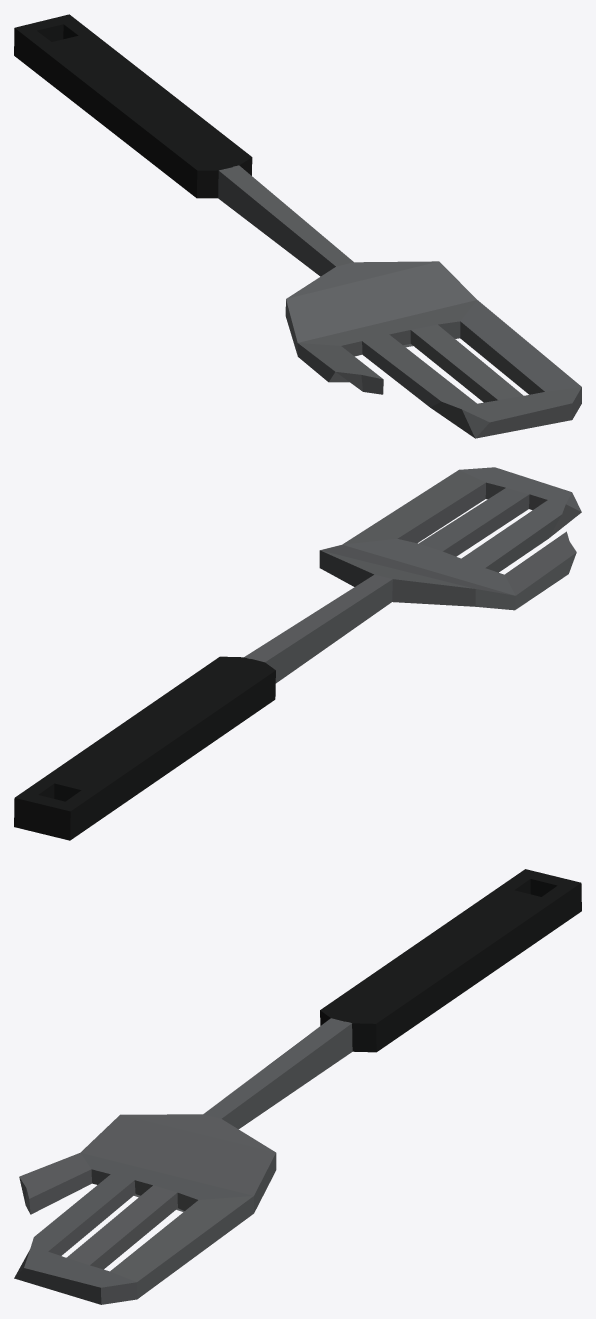
The model's file is kitchen_spatula_damaged._low_poly_model._no_ai..glb.
3 renders of one model, top to bottom at view 1: azimuth 30°, elevation 25°; view 2: azimuth 150°, elevation 25°; view 3: azimuth 330°, elevation 25°, orthographic. The views are drawn at different scales.
Visible parts, largest first — view 1: KitchenSpatula_0; view 2: KitchenSpatula_0; view 3: KitchenSpatula_0.
Part boxes in pixels (left/top/right/bottom): KitchenSpatula_0: left=14, top=14, right=581, bottom=438; KitchenSpatula_0: left=14, top=467, right=581, bottom=840; KitchenSpatula_0: left=14, top=869, right=581, bottom=1304.
Size of the model in its own units: 1.3 by 0.3617 by 5.92.
Materials: 1 (1 with a texture image).
